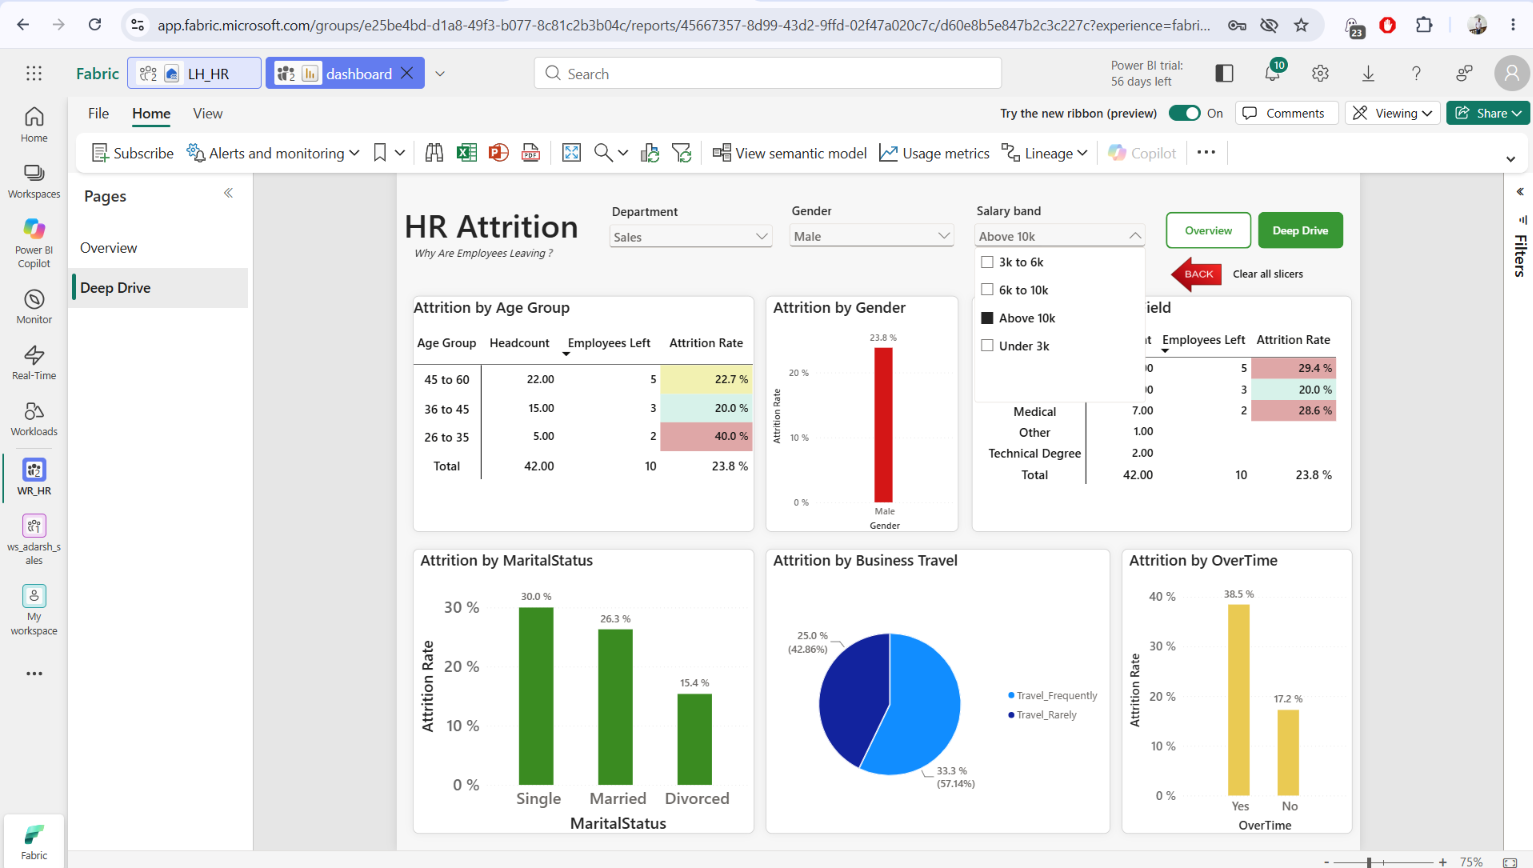

Layout of this report page (visuals, bound fields, positions):
{"tool":"powerbi","page":{"name":"Deep Drive","canvas":[1280,900],"ordinal":1},"visuals":[{"type":"textbox","box":[9.6,39.8,279.9,74.1],"z":0},{"type":"textbox","box":[22,96.1,279.9,37],"z":1000},{"type":"slicer","fields":{"Values":["HR-Employees.Department"]},"box":[277.2,39.8,226.4,74.1],"z":2000},{"type":"slicer","fields":{"Values":["HR-Employees.Gender"]},"box":[517.3,38.4,229.2,74.1],"z":3000},{"type":"slicer","fields":{"Values":["HR-Employees.Salary band"]},"box":[763,38.4,237.4,72.7],"z":4000},{"type":"actionButton","box":[1057.5,108.8,200,50],"z":5000},{"type":"pageNavigator","box":[1020.9,52.1,236,49.4],"z":6000},{"type":"pivotTable","title":"Attrition by Age Group","fields":{"Rows":["HR-Employees.Age Group"],"Values":["HR-Employees.Headcount","HR-Employees.Employees Left","HR-Employees.Attrition Rate"]},"box":[21.7,163.3,453.3,313.3],"z":7000},{"type":"columnChart","title":"Attrition by Gender","fields":{"Category":["HR-Employees.Gender"],"Y":["HR-Employees.Attrition Rate"]},"box":[490,163.8,256.2,313.8],"z":8000},{"type":"pivotTable","title":"Attrition by Education Field","fields":{"Rows":["HR-Employees.EducationField"],"Values":["HR-Employees.Headcount","HR-Employees.Employees Left","HR-Employees.Attrition Rate"]},"box":[763.8,163.8,505,313.8],"z":9000},{"type":"columnChart","title":"Attrition  by MaritalStatus","fields":{"Category":["HR-Employees.MaritalStatus"],"Y":["HR-Employees.Attrition Rate"]},"box":[21.2,500,453.8,378.8],"z":10000},{"type":"pieChart","title":"Attrition  by Business Travel","fields":{"Category":["HR-Employees.BusinessTravel"],"Y":["HR-Employees.Attrition Rate"]},"box":[490,500,457.5,378.8],"z":10001},{"type":"columnChart","title":"Attrition by OverTime","fields":{"Category":["HR-Employees.OverTime"],"Y":["HR-Employees.Attrition Rate"]},"box":[962.5,500,306.2,378.8],"z":10002},{"type":"image","box":[1000,111.4,122.9,47.1],"z":10003}]}

Visuals, with their boxes on the page's 1280x900 design canvas (x1, y1, x2, y2). These are canvas units, not pixel positions in the 1533x868 screenshot, which may show the page scaled, cropped or inside an application window:
textbox: select_region(10, 40, 290, 114)
textbox: select_region(22, 96, 302, 133)
slicer - HR-Employees.Department: select_region(277, 40, 504, 114)
slicer - HR-Employees.Gender: select_region(517, 38, 746, 112)
slicer - HR-Employees.Salary band: select_region(763, 38, 1000, 111)
actionButton: select_region(1058, 109, 1258, 159)
pageNavigator: select_region(1021, 52, 1257, 102)
"Attrition by Age Group" pivotTable: select_region(22, 163, 475, 477)
"Attrition by Gender" columnChart: select_region(490, 164, 746, 478)
"Attrition by Education Field" pivotTable: select_region(764, 164, 1269, 478)
"Attrition  by MaritalStatus" columnChart: select_region(21, 500, 475, 879)
"Attrition  by Business Travel" pieChart: select_region(490, 500, 948, 879)
"Attrition by OverTime" columnChart: select_region(962, 500, 1269, 879)
image: select_region(1000, 111, 1123, 158)
